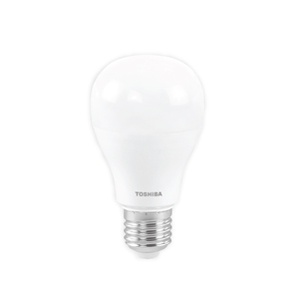Light_bulb: (88, 52, 209, 264)
